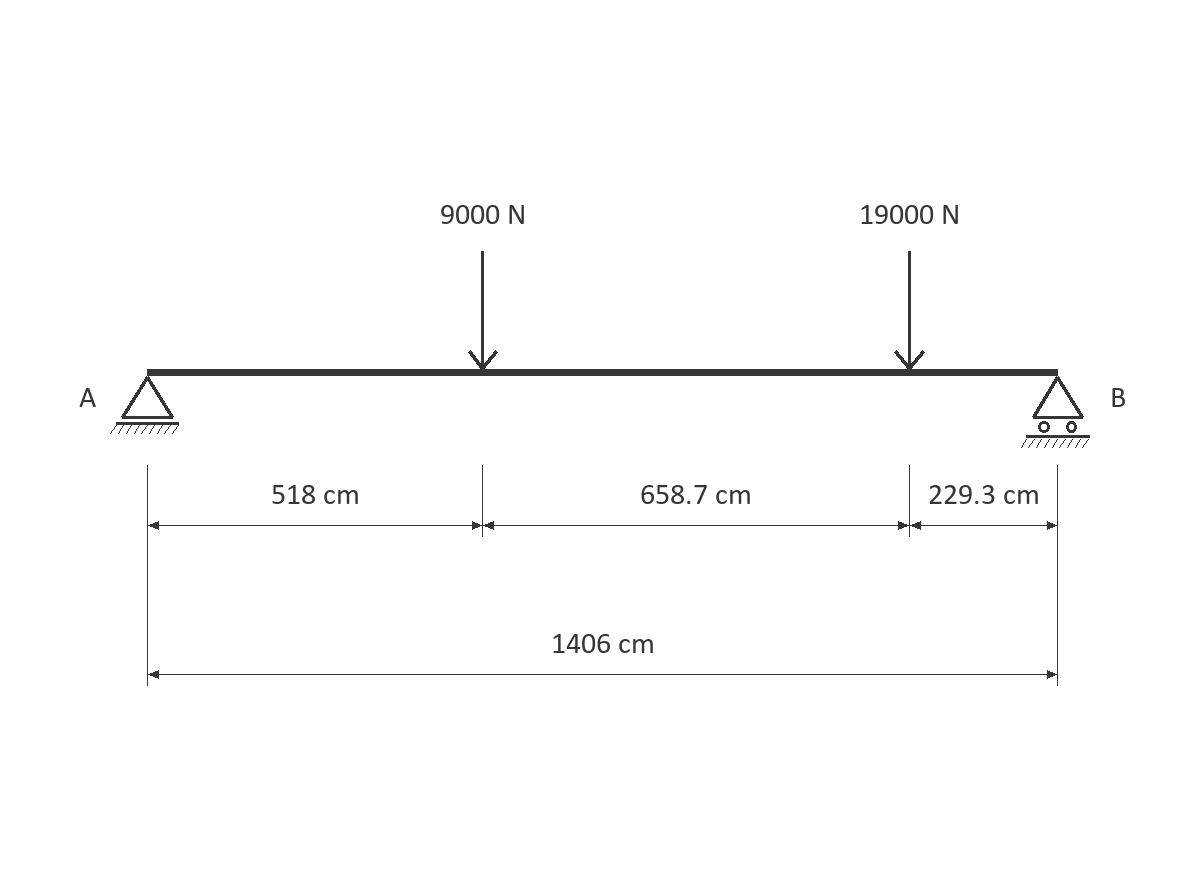pin_support: (110, 376, 179, 434)
point_load: (894, 251, 925, 370), (468, 251, 498, 370)
roller_support: (1021, 376, 1090, 448)
